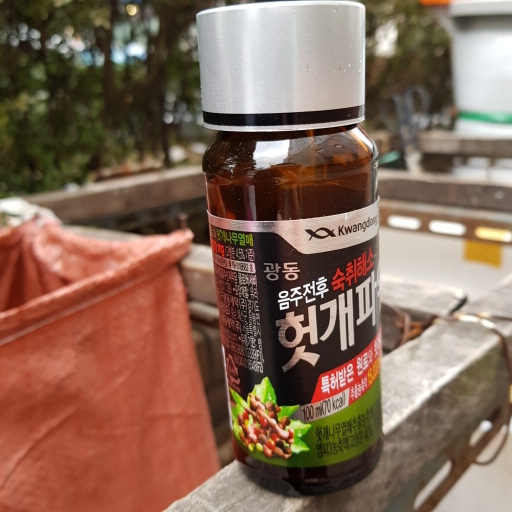Glass_3: (184, 1, 386, 493)
